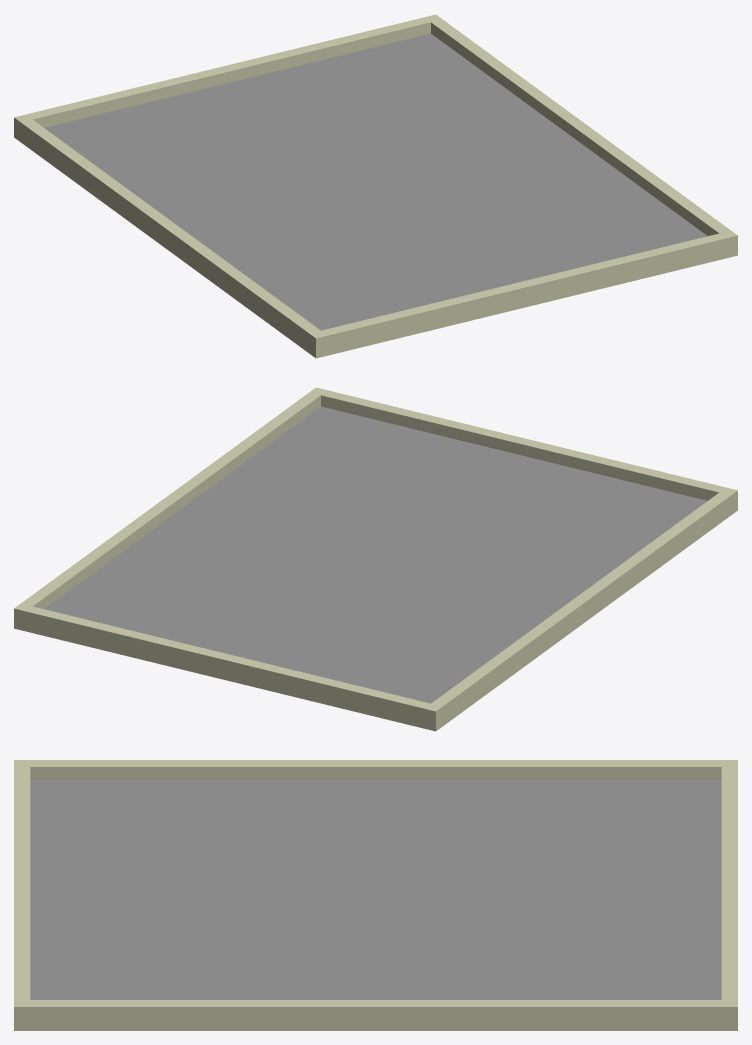
3 renders of one model, top to bottom at view 1: azimuth 30°, elevation 25°; view 2: azimuth 150°, elevation 25°; view 3: azimuth 270°, elevation 25°, orthographic. The views are drawn at different scales.
Visible parts, largest first — view 1: 建築天花板009; view 2: 建築天花板009; view 3: 建築天花板009.
Part boxes in pixels (left/top/right/bottom): 建築天花板009: left=14, top=14, right=737, bottom=358; 建築天花板009: left=14, top=387, right=737, bottom=731; 建築天花板009: left=14, top=760, right=737, bottom=1030.
Size of the model in its own units: 394 by 17.87 by 488.
